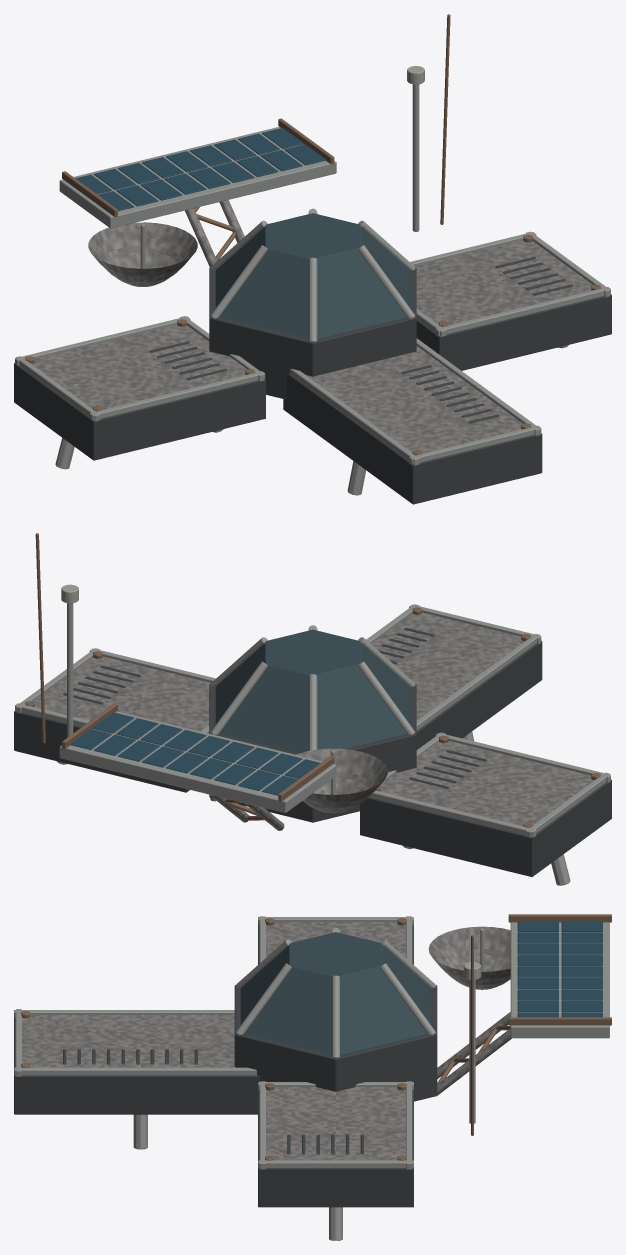
Rendered from research-station.glb.
3 renders of one model, top to bottom at view 1: azimuth 30°, elevation 25°; view 2: azimuth 150°, elevation 25°; view 3: azimuth 270°, elevation 25°, orthographic. The views are drawn at different scales.
Visible parts, largest first — view 1: research-station • editable solid geometry, Tracking dish • editable solid geometry; view 2: research-station • editable solid geometry, Tracking dish • editable solid geometry; view 3: research-station • editable solid geometry, Tracking dish • editable solid geometry.
Boxes of the visible parts, x1=… form: research-station • editable solid geometry: x1=14, y1=14, x2=611, y2=504; Tracking dish • editable solid geometry: x1=88, y1=222, x2=197, y2=286; research-station • editable solid geometry: x1=14, y1=533, x2=611, y2=885; Tracking dish • editable solid geometry: x1=296, y1=748, x2=387, y2=813; research-station • editable solid geometry: x1=14, y1=914, x2=611, y2=1240; Tracking dish • editable solid geometry: x1=428, y1=926, x2=510, y2=989.
Bounding box in the file's own units: 6 × 3.22 × 6.13.
7 materials, 1 textured.
